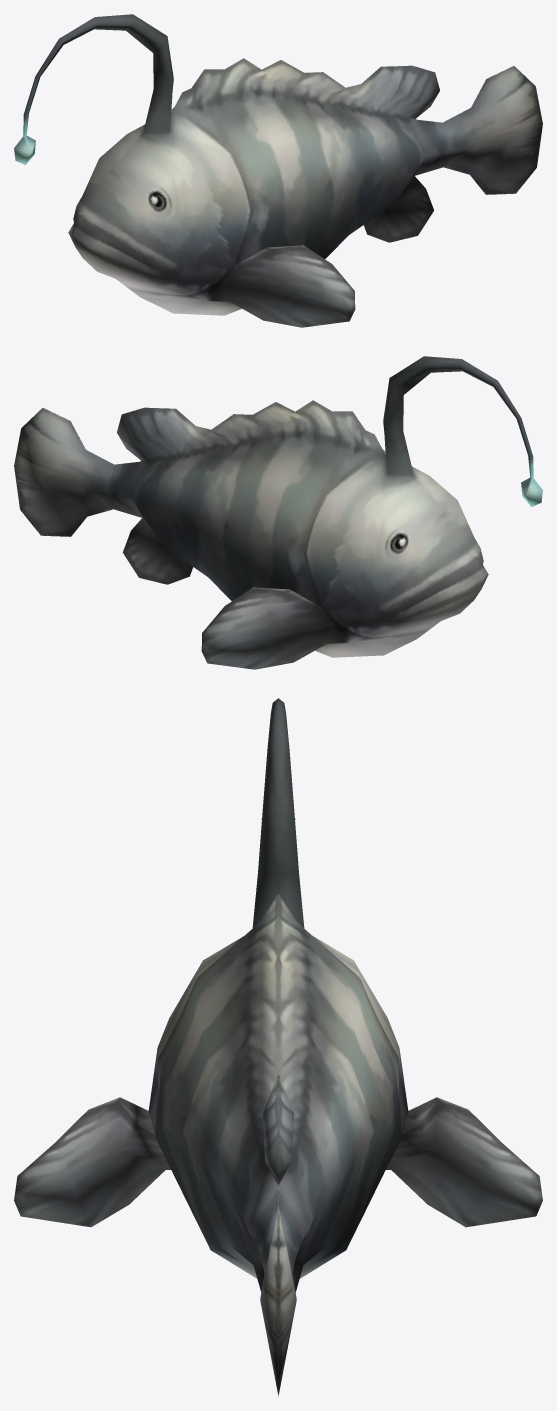
The model's file is f21_shibanyu.FBX.
3 views of the same model, one above another, from view 1: azimuth 30°, elevation 25°; view 2: azimuth 150°, elevation 25°; view 3: azimuth 270°, elevation 25° (orthographic). The views are drawn at different scales.
Parts seen in each view (by area): view 1: f21_shibanyu; view 2: f21_shibanyu; view 3: f21_shibanyu.
Part boxes in pixels (box(x1,y1,x2,y2)): f21_shibanyu: box(14, 14, 542, 327); f21_shibanyu: box(14, 356, 542, 669); f21_shibanyu: box(14, 698, 542, 1396).
Size of the model in its own units: 89.62 by 53.48 by 54.38.
Materials: 1 (1 with a texture image).
